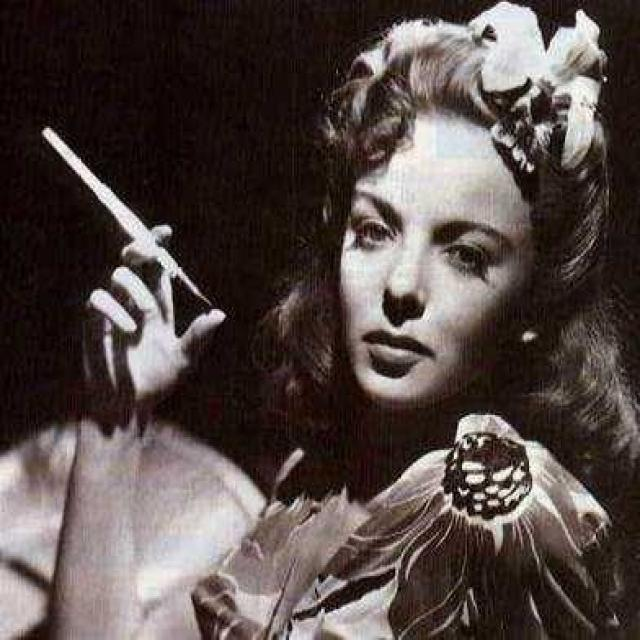Smooking: (39, 123, 239, 328)
